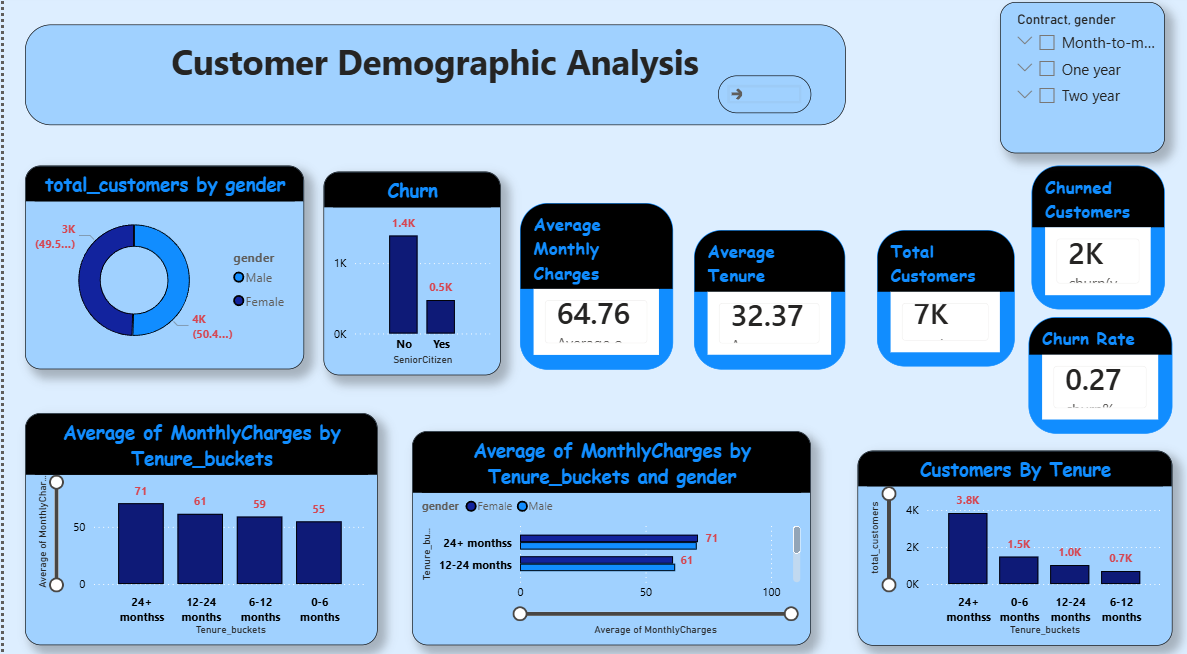

The page's visual inventory and layout, read from the dashboard file:
{"tool":"powerbi","page":{"name":"Page 1","canvas":[1280,720],"ordinal":0},"visuals":[{"type":"columnChart","title":"Churn","fields":{"Y":["customer.churn(yes)"],"Category":["customer.SeniorCitizen"]},"box":[344.9,192.7,191.1,220.2],"z":0},{"type":"cardVisual","title":"Total Customers","fields":{"Data":["customer.total_customers"]},"box":[942.4,255.8,149,147.3],"z":1000},{"type":"donutChart","fields":{"Category":["WA_Fn-UseC_-Telco-Customer-Churn.gender"],"Y":["WA_Fn-UseC_-Telco-Customer-Churn.total_customers"]},"box":[22.7,186.2,301.2,220.2],"z":2000},{"type":"columnChart","title":"Customers By Tenure","fields":{"Category":["customer.Tenure_buckets"],"Y":["customer.total_customers"]},"box":[921.3,493.9,340,210.5],"z":3000},{"type":"columnChart","fields":{"Category":["customer.Tenure_buckets"],"Y":["Avg(customer.MonthlyCharges)"]},"box":[22.7,453.4,380.5,251],"z":4000},{"type":"clusteredBarChart","fields":{"Category":["customer.Tenure_buckets"],"Y":["Avg(customer.MonthlyCharges)"],"Series":["customer.gender"]},"box":[440.4,472.8,430.7,231.5],"z":5000},{"type":"cardVisual","title":"Churned Customers","fields":{"Data":["customer.churn(yes)"]},"box":[1109.2,186.2,144.1,155.4],"z":6000},{"type":"cardVisual","title":"Churn Rate","fields":{"Data":["customer.churn%"]},"box":[1105.9,349.8,155.4,126.3],"z":7000},{"type":"cardVisual","title":"Average Monthly Charges","fields":{"Data":["Avg(customer.MonthlyCharges)"]},"box":[557,226.7,165.2,179.7],"z":8000},{"type":"cardVisual","title":"Average Tenure","fields":{"Data":["Avg(customer.tenure)"]},"box":[744.8,255.8,163.5,150.6],"z":9000},{"type":"slicer","fields":{"Values":["customer.Contract","customer.gender"]},"box":[1075.2,9.7,178.1,163.5],"z":10000},{"type":"textbox","box":[22.7,34,885.7,108.5],"z":11000},{"type":"actionButton","box":[770.8,89.1,100.4,40.5],"z":12000}]}

Visuals, with their boxes in screenshot pixels (x1, y1, x2, y2), scaled from the page's 1280x720 canvas onto the 1187x654 screenshot:
"Churn" columnChart: l=320, t=175, r=497, b=375
"Total Customers" cardVisual: l=874, t=232, r=1012, b=366
donutChart - WA_Fn-UseC_-Telco-Customer-Churn.gender x WA_Fn-UseC_-Telco-Customer-Churn.total_customers: l=21, t=169, r=300, b=369
"Customers By Tenure" columnChart: l=854, t=449, r=1170, b=640
columnChart - customer.Tenure_buckets x Avg(customer.MonthlyCharges): l=21, t=412, r=374, b=640
clusteredBarChart - customer.Tenure_buckets x Avg(customer.MonthlyCharges): l=408, t=429, r=808, b=640
"Churned Customers" cardVisual: l=1029, t=169, r=1162, b=310
"Churn Rate" cardVisual: l=1026, t=318, r=1170, b=432
"Average Monthly Charges" cardVisual: l=517, t=206, r=670, b=369
"Average Tenure" cardVisual: l=691, t=232, r=842, b=369
slicer - customer.Contract x customer.gender: l=997, t=9, r=1162, b=157
textbox: l=21, t=31, r=842, b=129
actionButton: l=715, t=81, r=808, b=118
